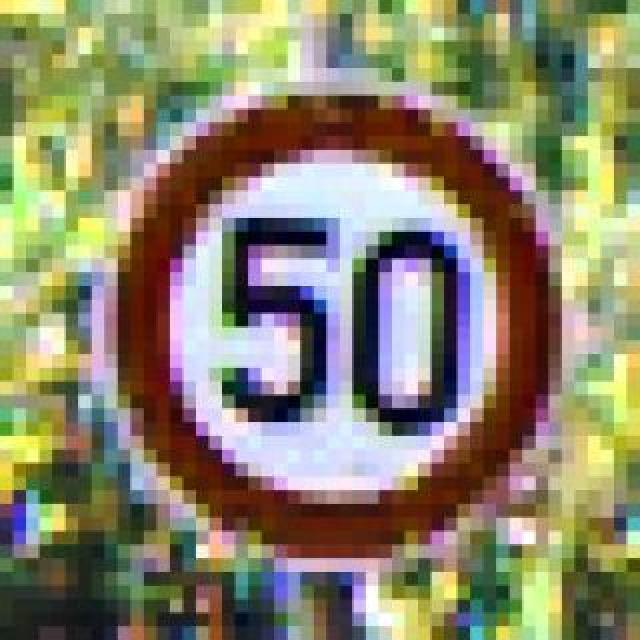50 kph: (92, 68, 562, 544)
